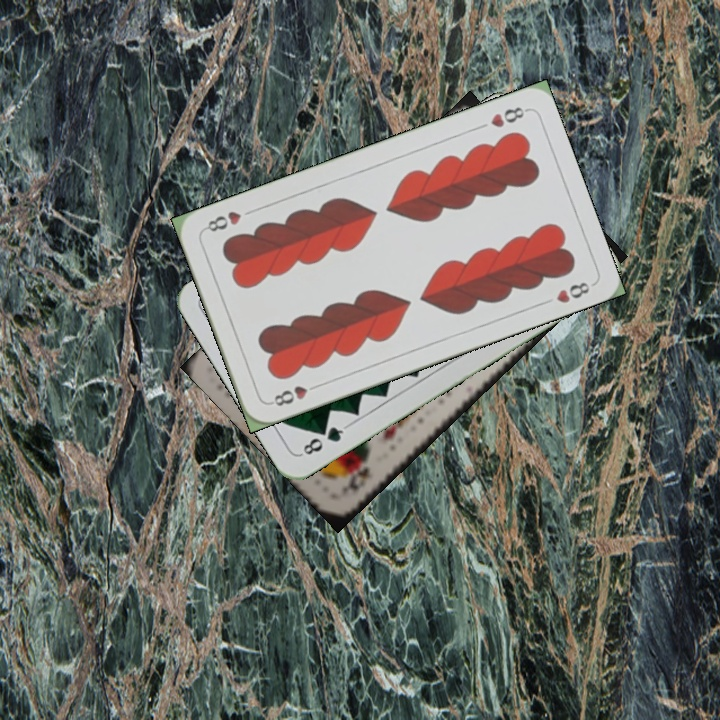G8: (297, 421, 350, 458)
H8: (266, 379, 323, 409), (486, 102, 530, 130)
SK: (339, 462, 372, 497)
